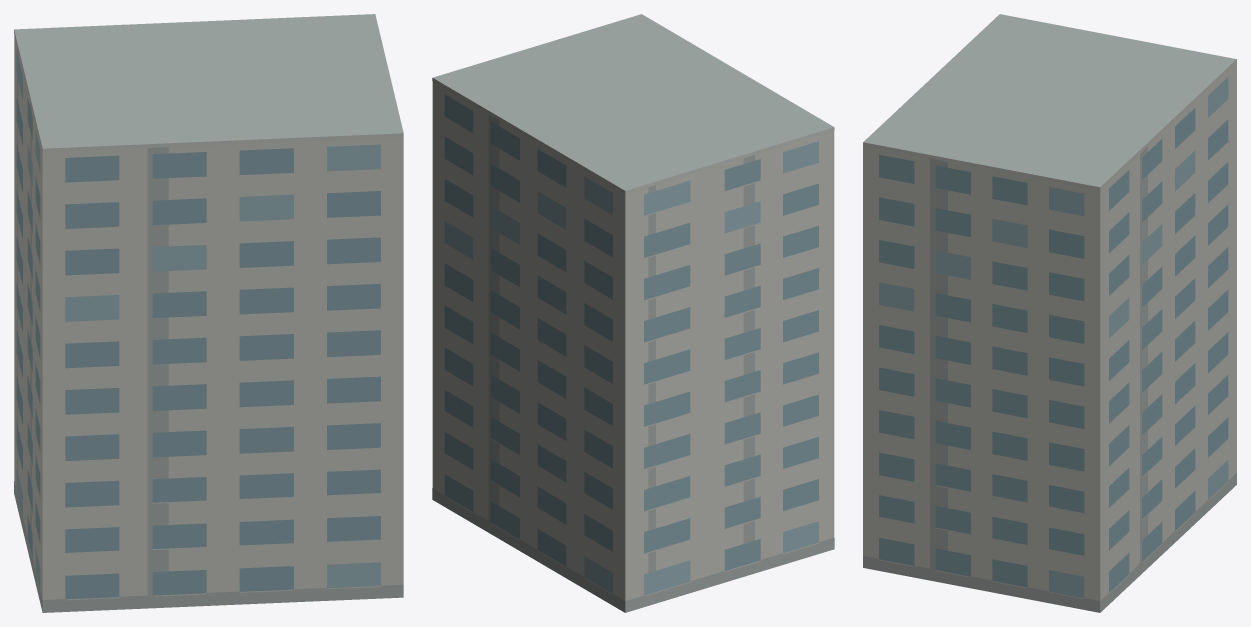
The model's file is residential-ccf276ca-eba2-4369-85c1-c9cdd7932dfd.glb.
3 renders of one model, left to right at view 1: azimuth 30°, elevation 25°; view 2: azimuth 150°, elevation 25°; view 3: azimuth 270°, elevation 25°, orthographic. The views are drawn at different scales.
Visible parts, largest first — view 1: residential-ccf276ca-eba2-4369-85c1-c9cdd7932dfd.tmp; view 2: residential-ccf276ca-eba2-4369-85c1-c9cdd7932dfd.tmp; view 3: residential-ccf276ca-eba2-4369-85c1-c9cdd7932dfd.tmp.
Boxes of the visible parts, x1,y1,x2,y2 form: residential-ccf276ca-eba2-4369-85c1-c9cdd7932dfd.tmp: (14, 14, 403, 612); residential-ccf276ca-eba2-4369-85c1-c9cdd7932dfd.tmp: (432, 14, 834, 612); residential-ccf276ca-eba2-4369-85c1-c9cdd7932dfd.tmp: (863, 14, 1236, 612).
Bounding box in the file's own units: 25.33 × 29 × 23.09.
